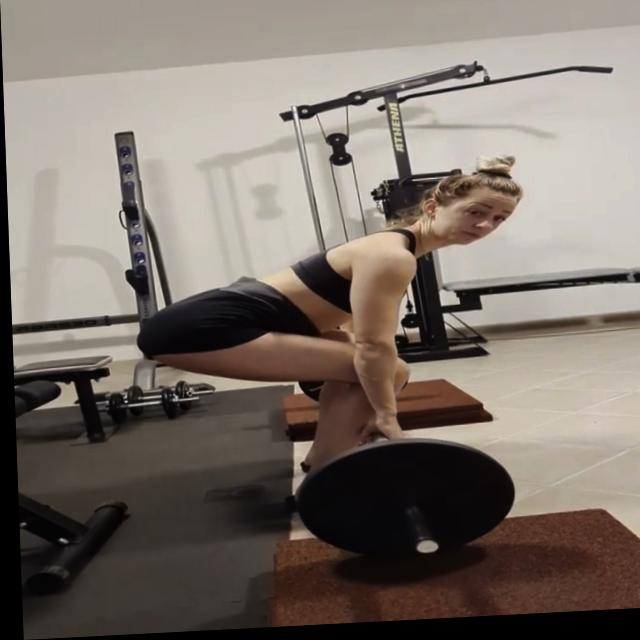barbell: (286, 432, 521, 578)
